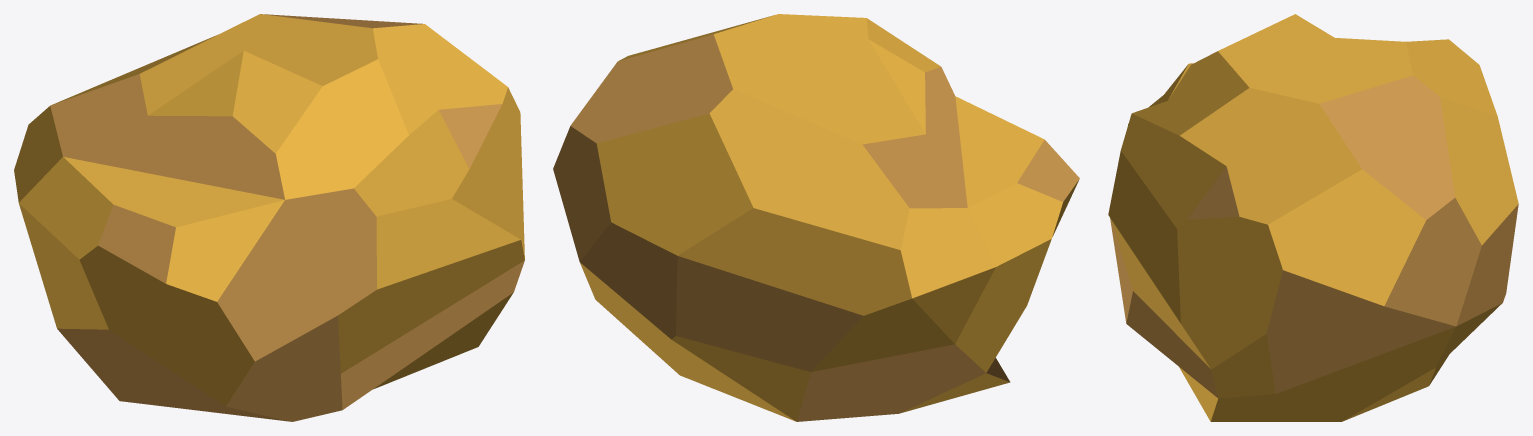
Rendered from Small boulder - sand w shade.fbx.
3 views of the same model, side by side, from view 1: azimuth 30°, elevation 25°; view 2: azimuth 150°, elevation 25°; view 3: azimuth 270°, elevation 25° (orthographic).
Visible parts, largest first — view 1: Icosphere; view 2: Icosphere; view 3: Icosphere.
Part boxes in pixels (left/top/right/bottom): Icosphere: left=14, top=14, right=524, bottom=421; Icosphere: left=553, top=14, right=1079, bottom=421; Icosphere: left=1108, top=14, right=1518, bottom=421.
Bounding box in the file's own units: 78.63 × 52.63 × 62.43.
